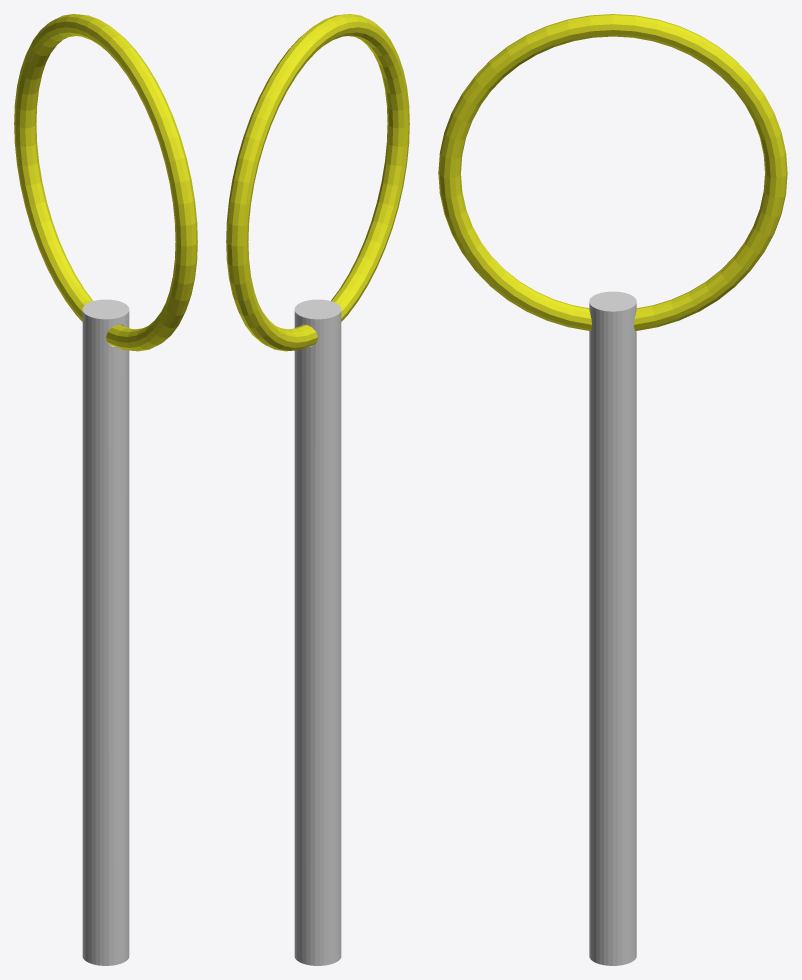
The model's file is electroebator.fbx.
3 views of the same model, side by side, from view 1: azimuth 30°, elevation 25°; view 2: azimuth 150°, elevation 25°; view 3: azimuth 270°, elevation 25° (orthographic).
Parts seen in each view (by area): view 1: Cylinder, Torus.001; view 2: Cylinder, Torus.001; view 3: Cylinder, Torus.001.
Part boxes in pixels (bbox=[...]): Cylinder: bbox=[82, 299, 129, 965]; Torus.001: bbox=[14, 14, 197, 351]; Cylinder: bbox=[294, 299, 341, 965]; Torus.001: bbox=[226, 14, 409, 351]; Cylinder: bbox=[589, 291, 636, 965]; Torus.001: bbox=[438, 14, 787, 331].
Bounding box in the file's own units: 37.88 × 826 × 278.
